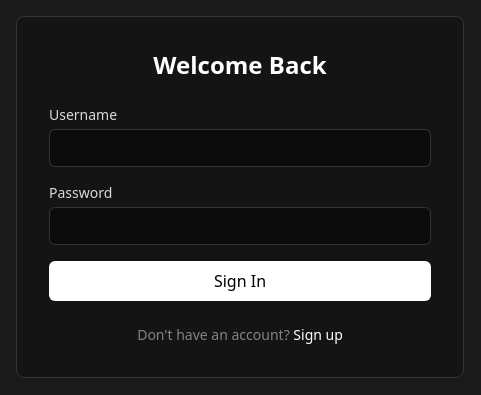
TestLoginPage › switches back to login mode when "Sign in" is clicked
The width and height of the screenshot is (481, 395).
# Switch to register mode
Click the button "Sign up" at (318, 335), box [293,325,343,345]
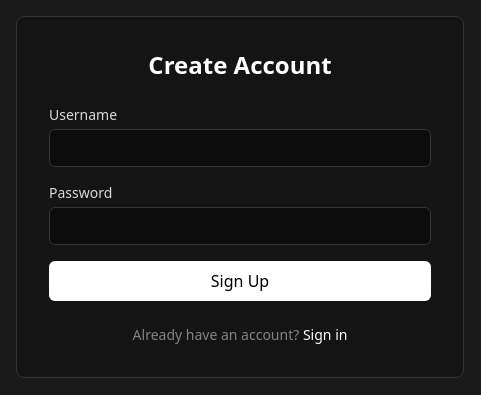
# Switch back to login mode
Click the button "Sign in" at (325, 335), box [303,325,347,345]
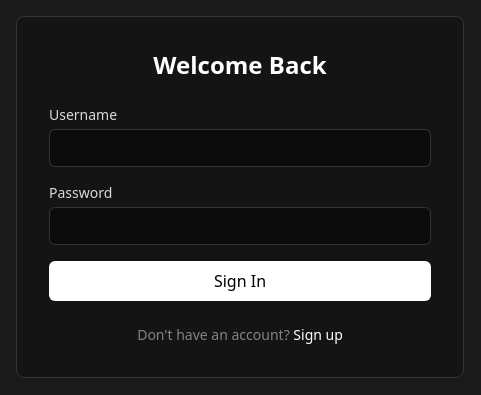
Check: the heading "Welcome Back" is shown, box [153,48,327,81]
Check: the button "Sign In" is shown, box [49,261,431,301]
